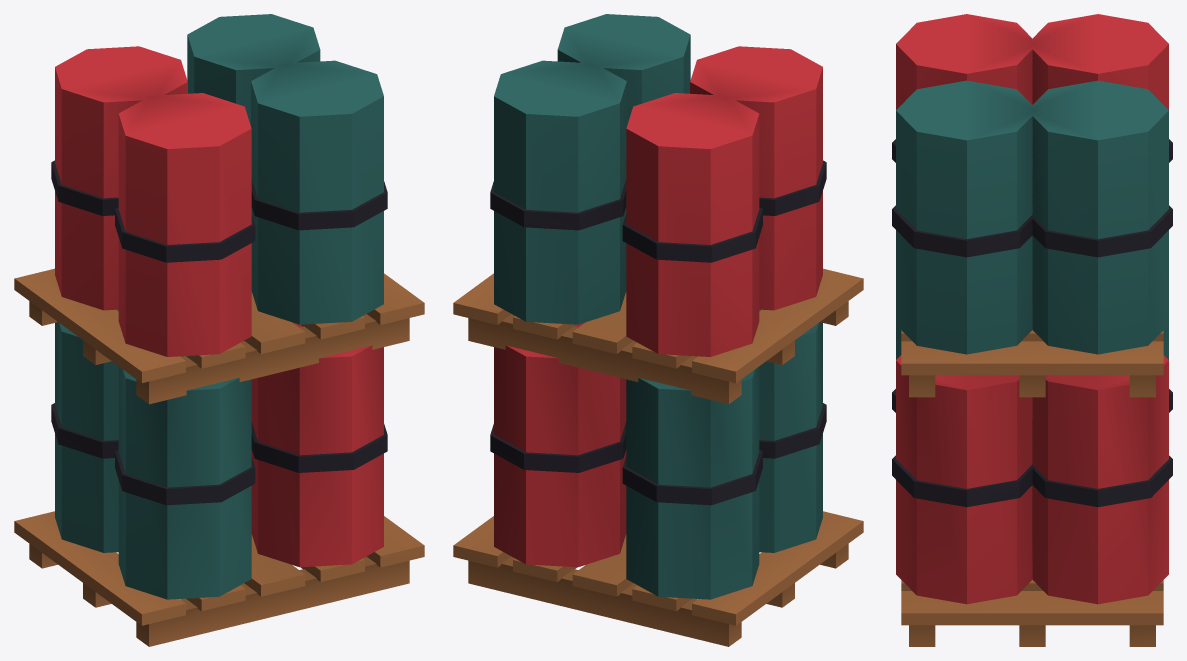
The model's file is prop.cure-drum-stack.lod1.glb.
3 renders of one model, left to right at view 1: azimuth 30°, elevation 25°; view 2: azimuth 150°, elevation 25°; view 3: azimuth 270°, elevation 25°, orthographic. The views are drawn at different scales.
Parts seen in each view (by area): view 1: body; view 2: body; view 3: body.
Boxes of the visible parts, x1,y1,x2,y2 form: body: (14, 14, 424, 646); body: (453, 14, 863, 646); body: (892, 14, 1172, 646).
Bounding box in the file's own units: 1.28 × 2.12 × 1.07.
